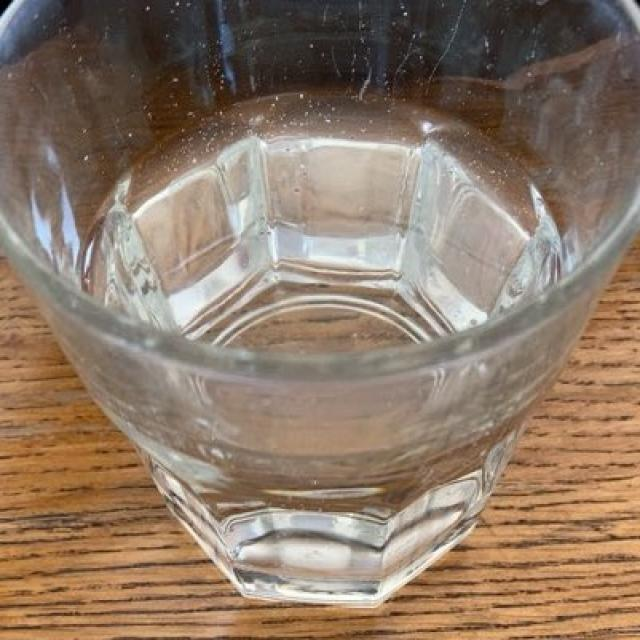water: (53, 84, 558, 623)
